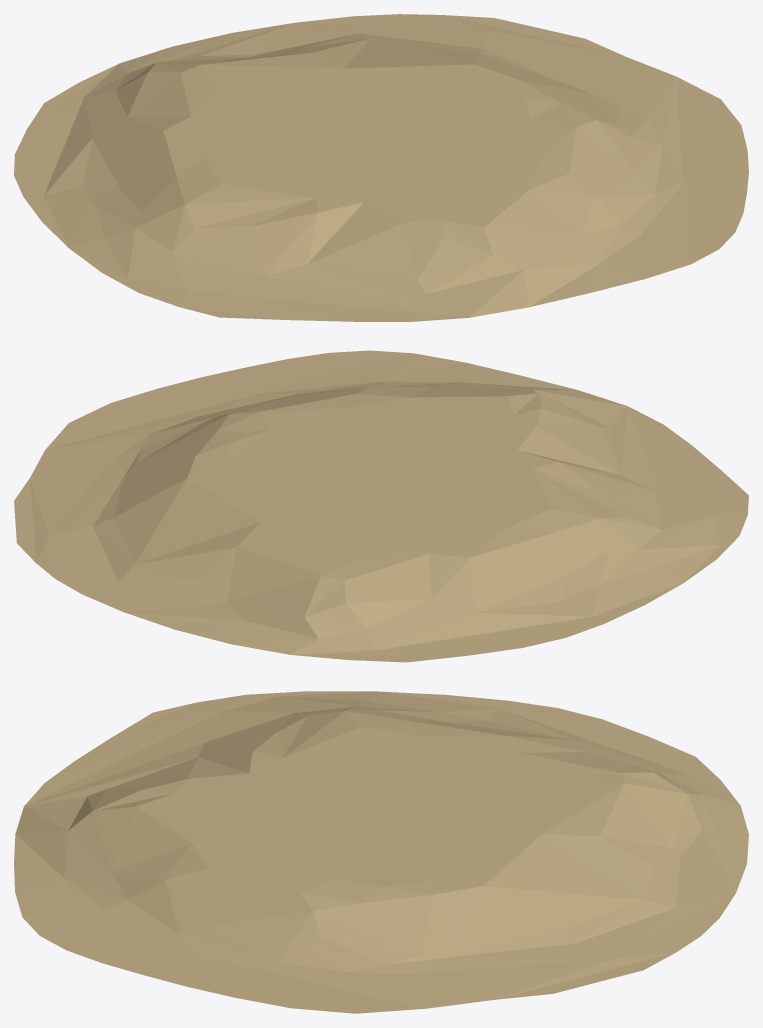
The model's file is SM_Env_Beach_01.glb.
The picture shows the model from 3 angles, top to bottom: view 1: azimuth 30°, elevation 25°; view 2: azimuth 150°, elevation 25°; view 3: azimuth 270°, elevation 25°; orthographic projection. The views are drawn at different scales.
Visible parts, largest first — view 1: node_id4; view 2: node_id4; view 3: node_id4.
Part boxes in pixels (bbox=[...]): node_id4: bbox=[14, 14, 748, 321]; node_id4: bbox=[14, 350, 748, 662]; node_id4: bbox=[14, 691, 748, 1013].
Size of the model in its own units: 0.512 by 0.0268 by 0.493.
1 material, 1 textured.
